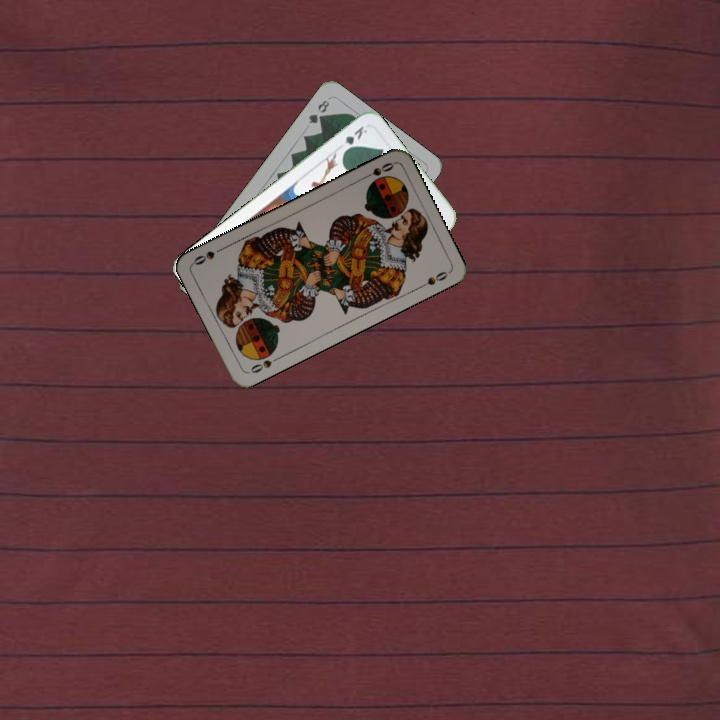G8: (304, 96, 332, 126)
GK: (339, 122, 370, 155)
SO: (358, 158, 397, 182), (244, 353, 283, 376)
